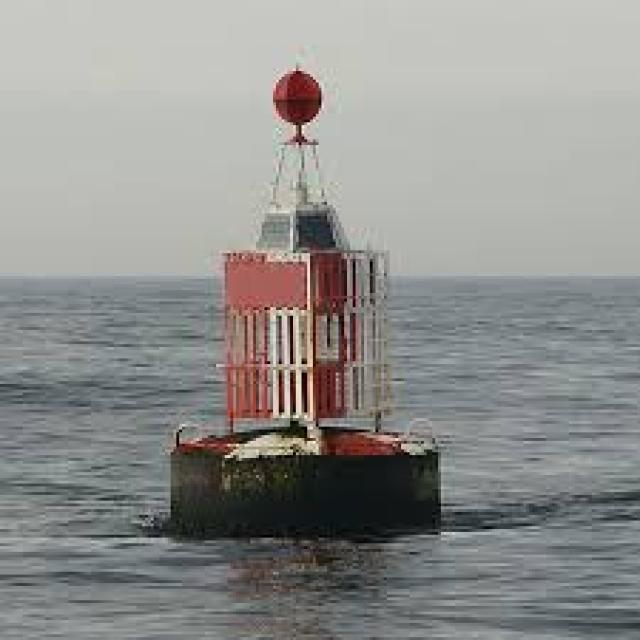2.4 safe water mark: (147, 31, 486, 558)
